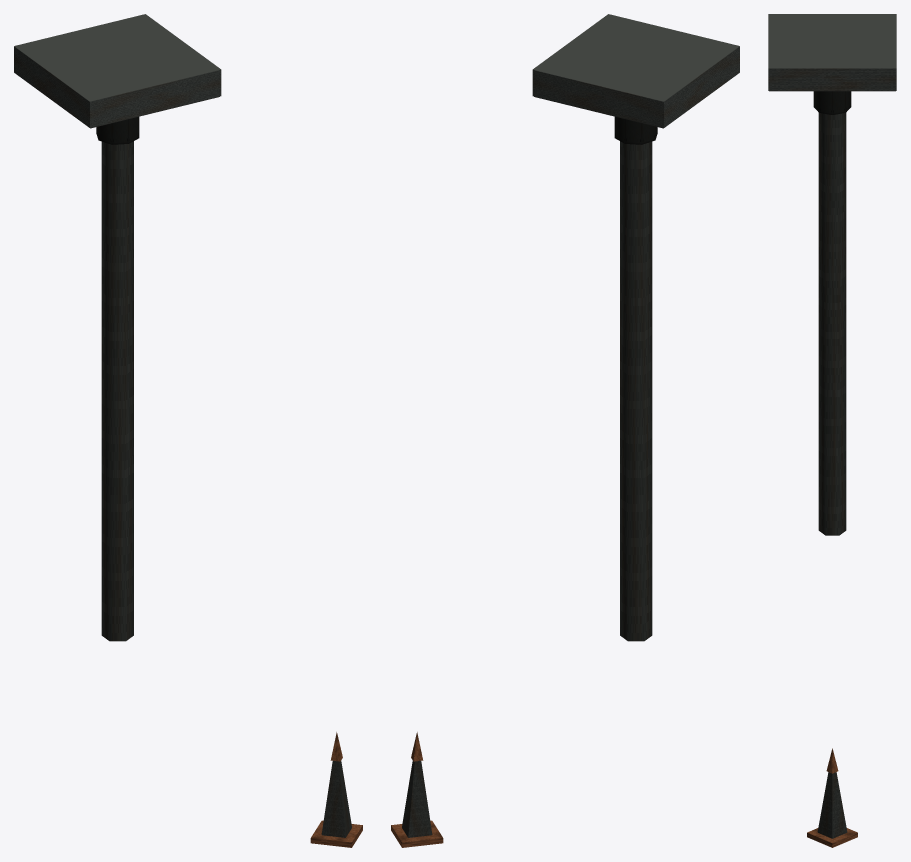
Rendered from symbolfloor.glb.
The picture shows the model from 3 angles, left to right: view 1: azimuth 30°, elevation 25°; view 2: azimuth 150°, elevation 25°; view 3: azimuth 270°, elevation 25°; orthographic projection. The views are drawn at different scales.
Parts seen in each view (by area): view 1: plate, spike; view 2: plate, spike; view 3: plate, spike.
Boxes of the visible parts, x1=… form: plate: x1=14, y1=14, x2=221, y2=641; spike: x1=310, y1=732, x2=362, y2=847; plate: x1=532, y1=14, x2=739, y2=641; spike: x1=391, y1=732, x2=443, y2=847; plate: x1=768, y1=14, x2=896, y2=535; spike: x1=807, y1=748, x2=857, y2=847.
Size of the model in its own units: 3.55 by 9.08 by 1.5.
Materials: 7 (5 with a texture image).
